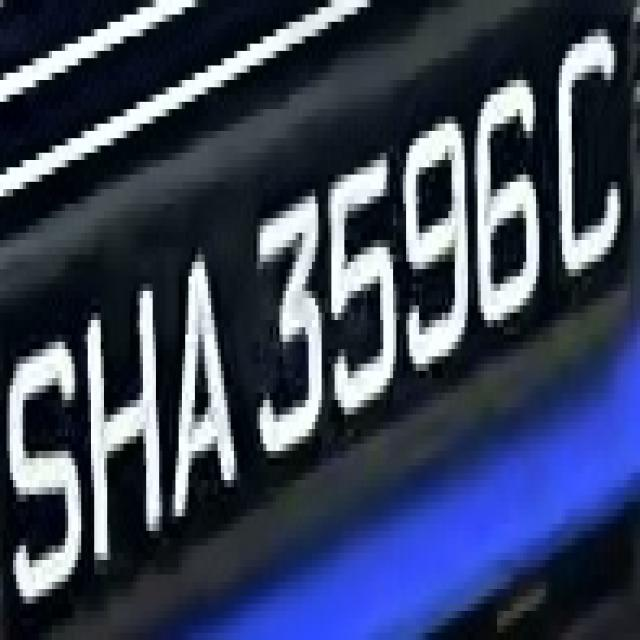3: (254, 175, 328, 458)
5: (322, 146, 406, 414)
6: (471, 51, 546, 342)
9: (393, 116, 471, 393)
A: (156, 226, 244, 524)
C: (549, 29, 621, 291)
H: (81, 276, 169, 538)
S: (0, 327, 91, 604)
